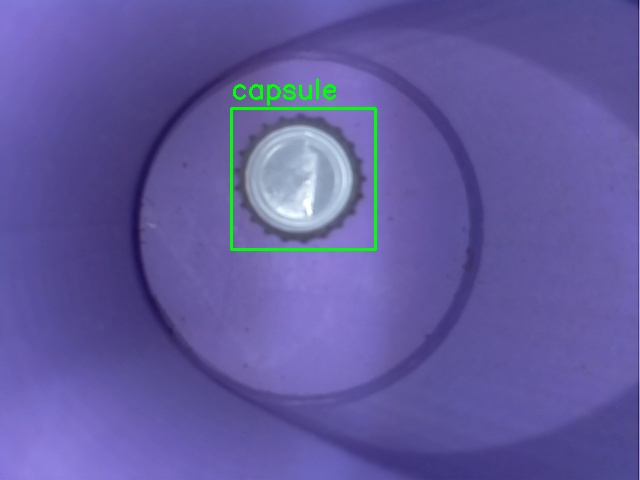capsule: (231, 108, 375, 249)
